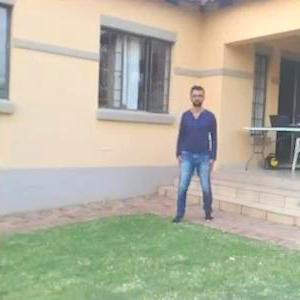follow: (174, 78, 219, 234)
